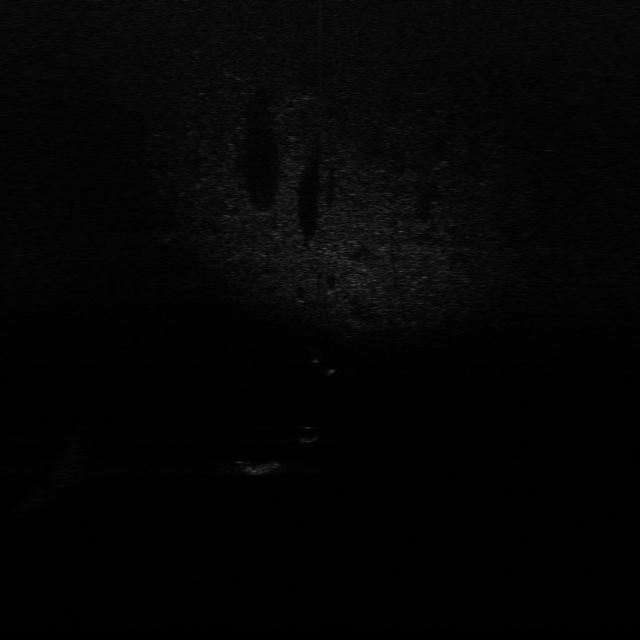ball: (290, 421, 320, 444)
human body: (301, 344, 348, 378)
square cage: (237, 457, 283, 477)
